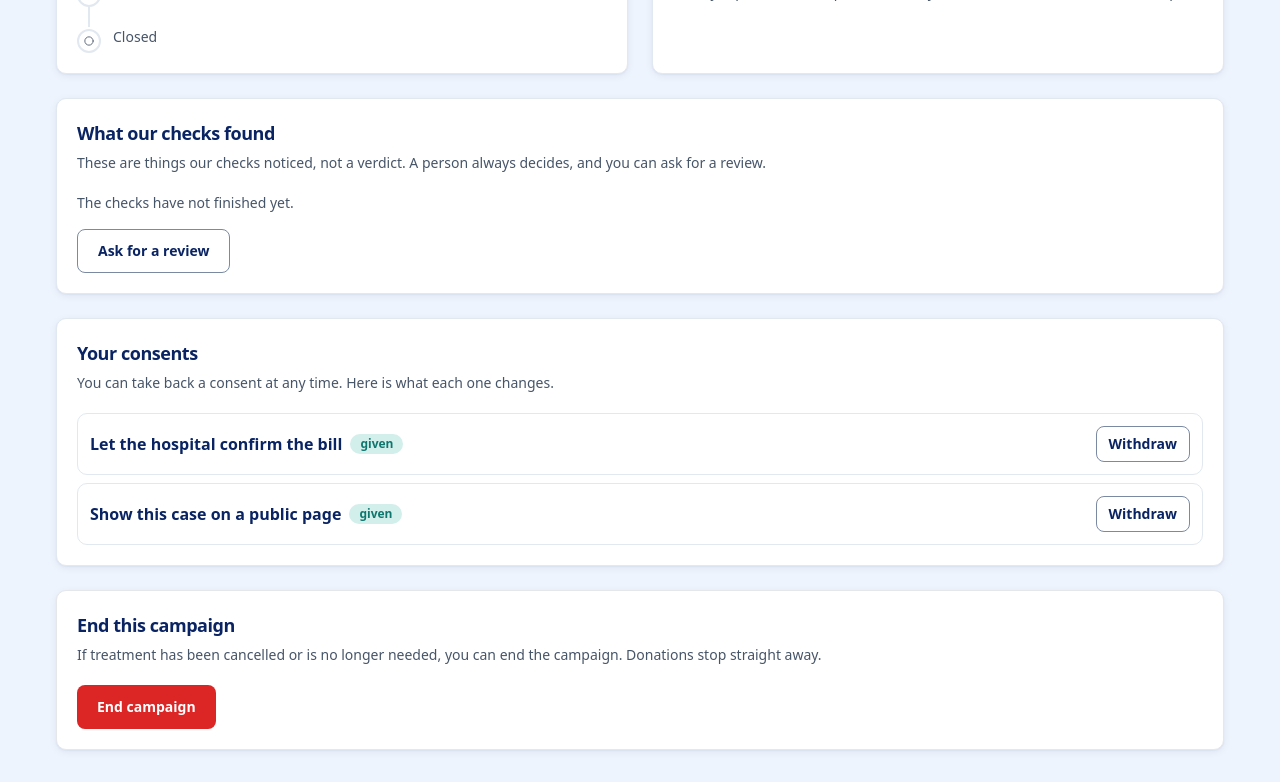
Test: case dashboard › warns that withdrawing the hospital check before confirmation ends the campaign
The image size is (1280, 782).
(page scrolled)
Click the button named "Withdraw: Let the hospital confirm the bill" at (1143, 444), box left=1096, top=426, right=1190, bottom=462
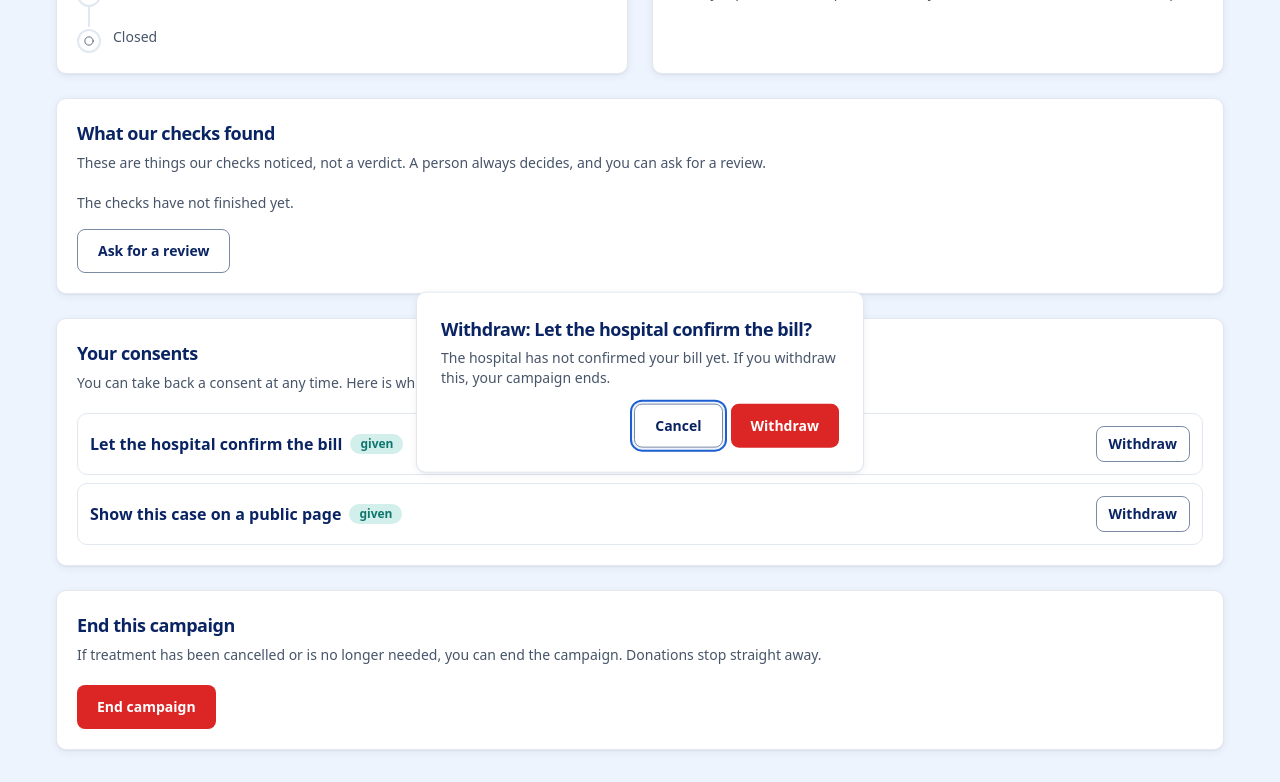
expect the text "If you withdraw this, your campaign ends" is shown: met, box left=441, top=347, right=836, bottom=386
